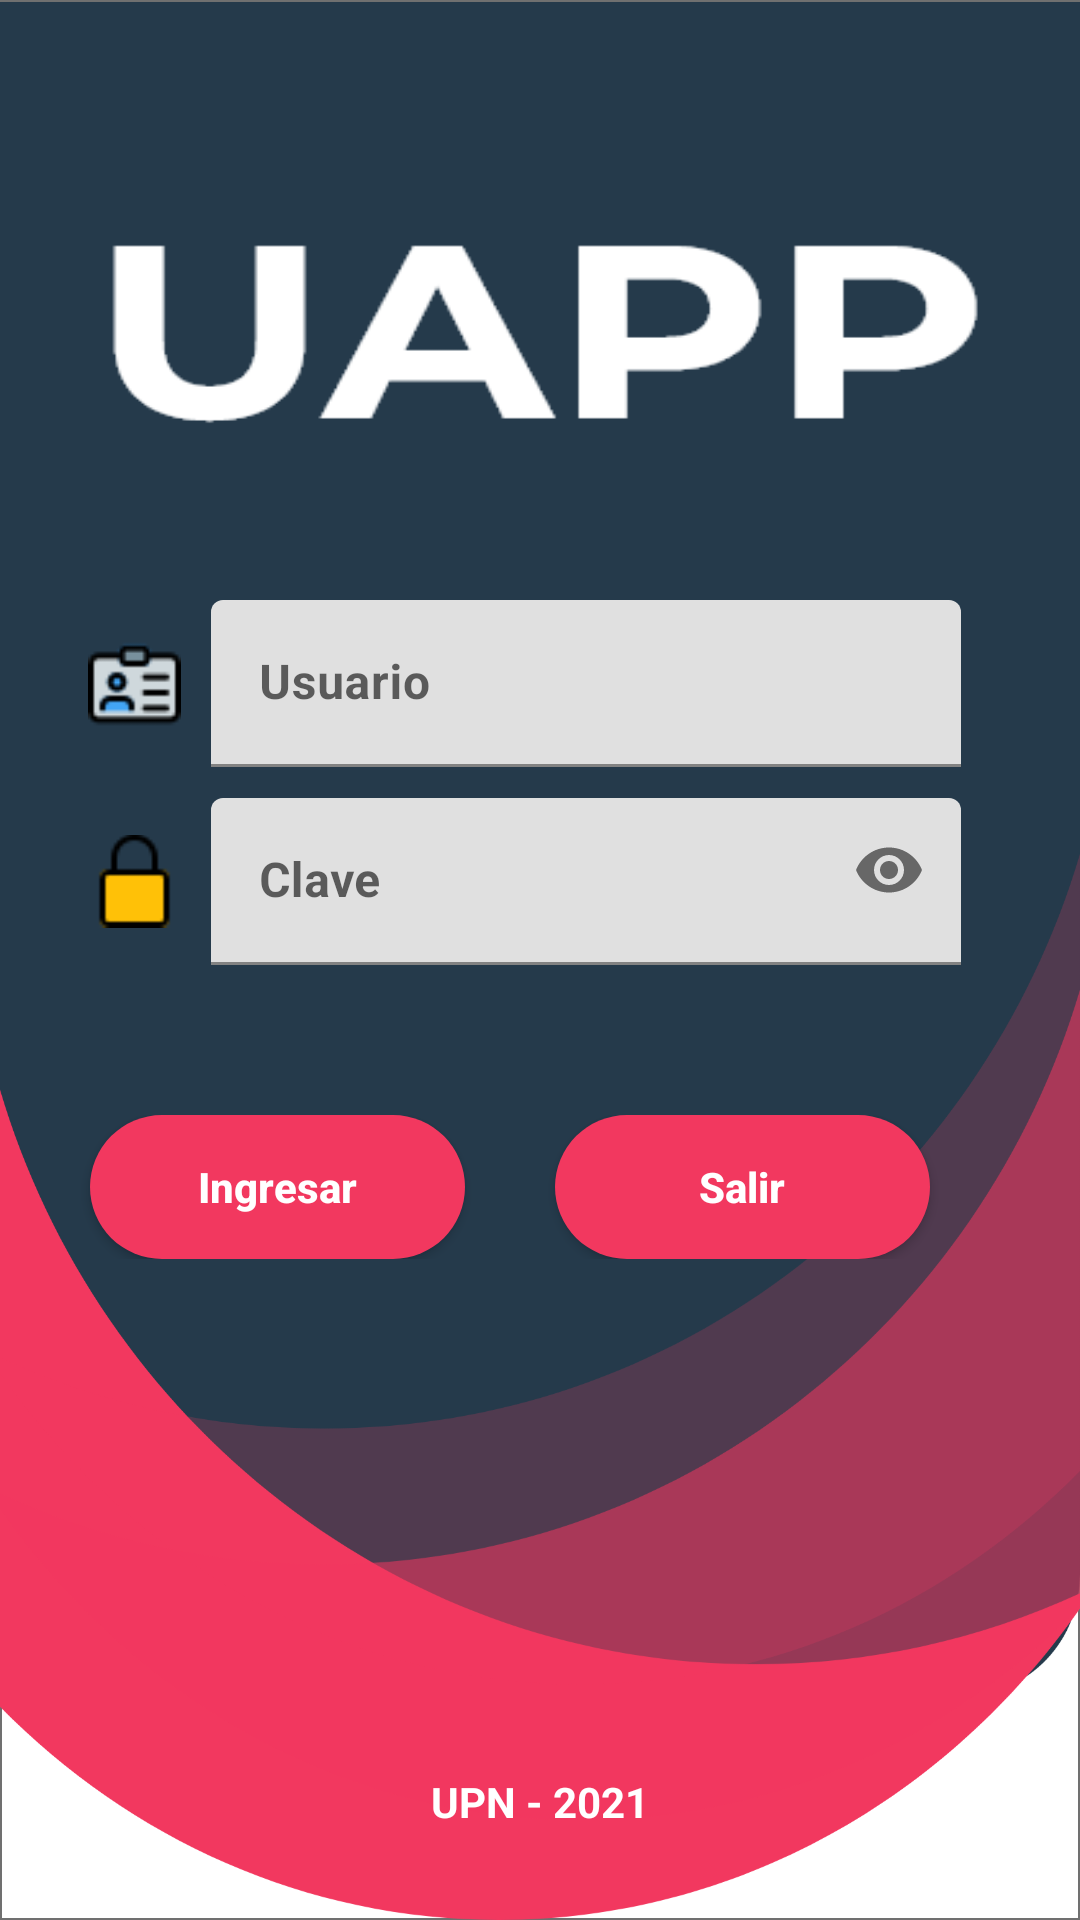

Icon bounding boxes for this 1080×1920 phone screenshot, format [x1,y1,x2,y2]:
candado: [99,835,170,928]
